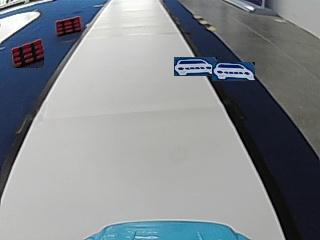bomb: (55, 14, 81, 34)
